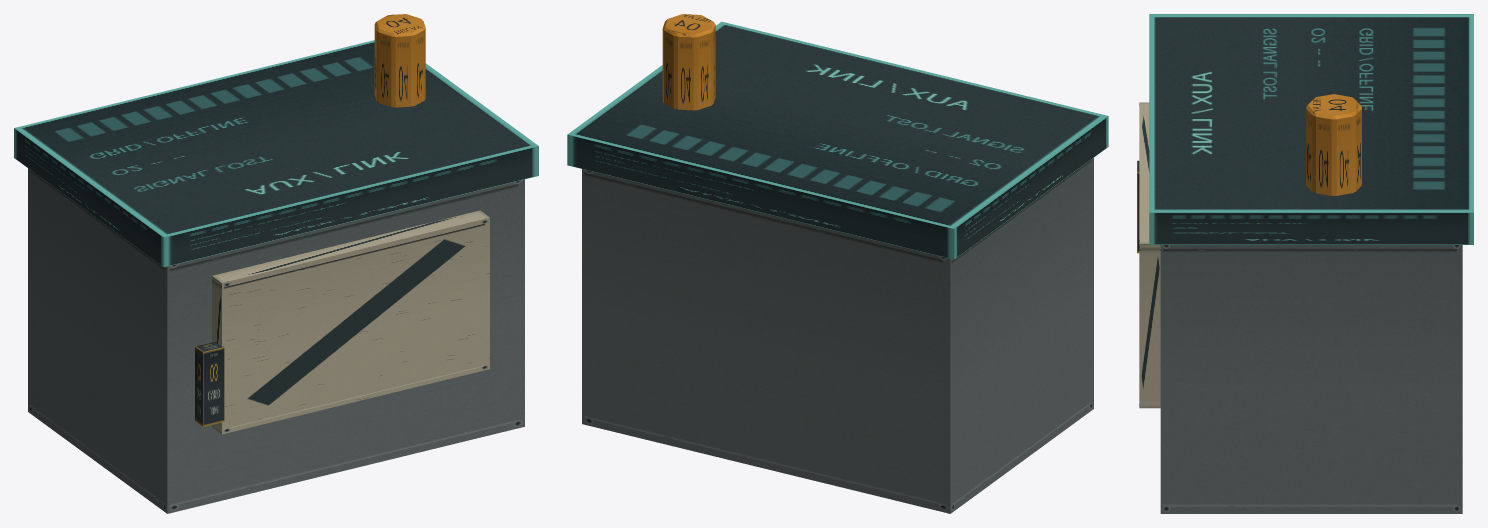
Rendered from generator_LOD2.obj.
The picture shows the model from 3 angles, left to right: view 1: azimuth 30°, elevation 25°; view 2: azimuth 150°, elevation 25°; view 3: azimuth 270°, elevation 25°; orthographic projection. The views are drawn at different scales.
Parts seen in each view (by area): view 1: L02_generator_LOD2; view 2: L02_generator_LOD2; view 3: L02_generator_LOD2.
Part boxes in pixels (x1,y1,x2,y2): L02_generator_LOD2: (14, 14, 538, 513); L02_generator_LOD2: (567, 14, 1108, 513); L02_generator_LOD2: (1137, 14, 1473, 513).
Size of the model in its own units: 2.1 by 1.9 by 1.5.
1 material, 1 textured.
